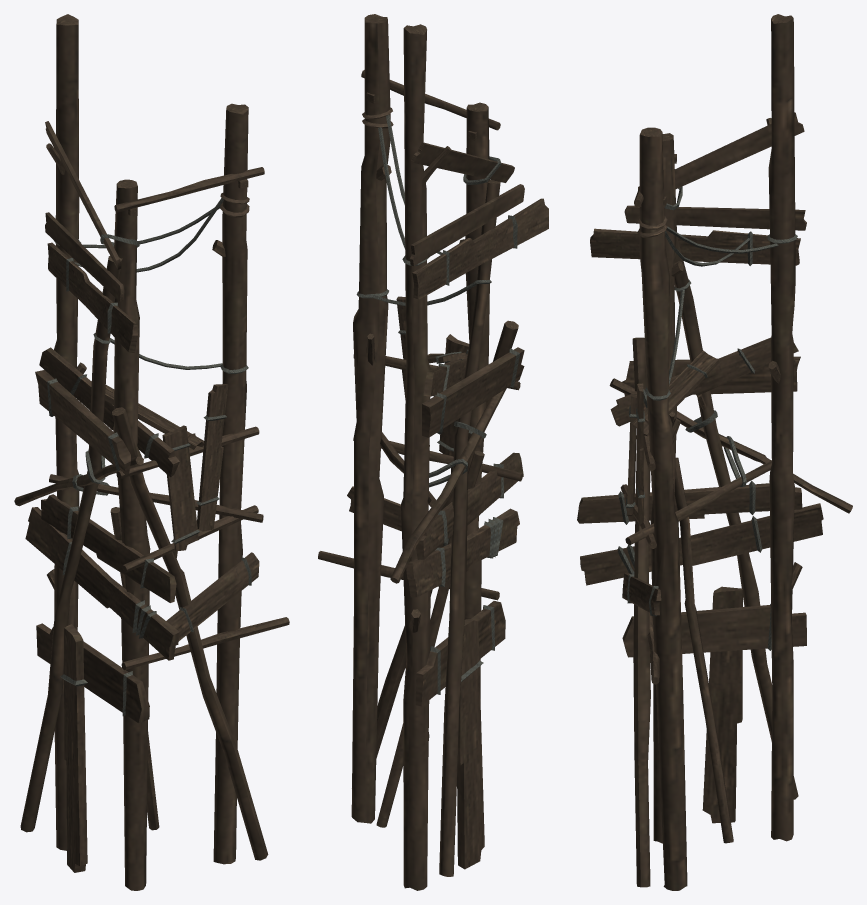
The model's file is dcfx_jiaz_01.FBX.
The picture shows the model from 3 angles, left to right: view 1: azimuth 30°, elevation 25°; view 2: azimuth 150°, elevation 25°; view 3: azimuth 270°, elevation 25°; orthographic projection. The views are drawn at different scales.
Parts seen in each view (by area): view 1: dcfx_jiaz_01; view 2: dcfx_jiaz_01; view 3: dcfx_jiaz_01.
Part boxes in pixels (x1,y1,x2,y2): dcfx_jiaz_01: (14,14,289,890); dcfx_jiaz_01: (318,14,548,890); dcfx_jiaz_01: (577,14,852,890).
Size of the model in its own units: 258 by 1033 by 314.
